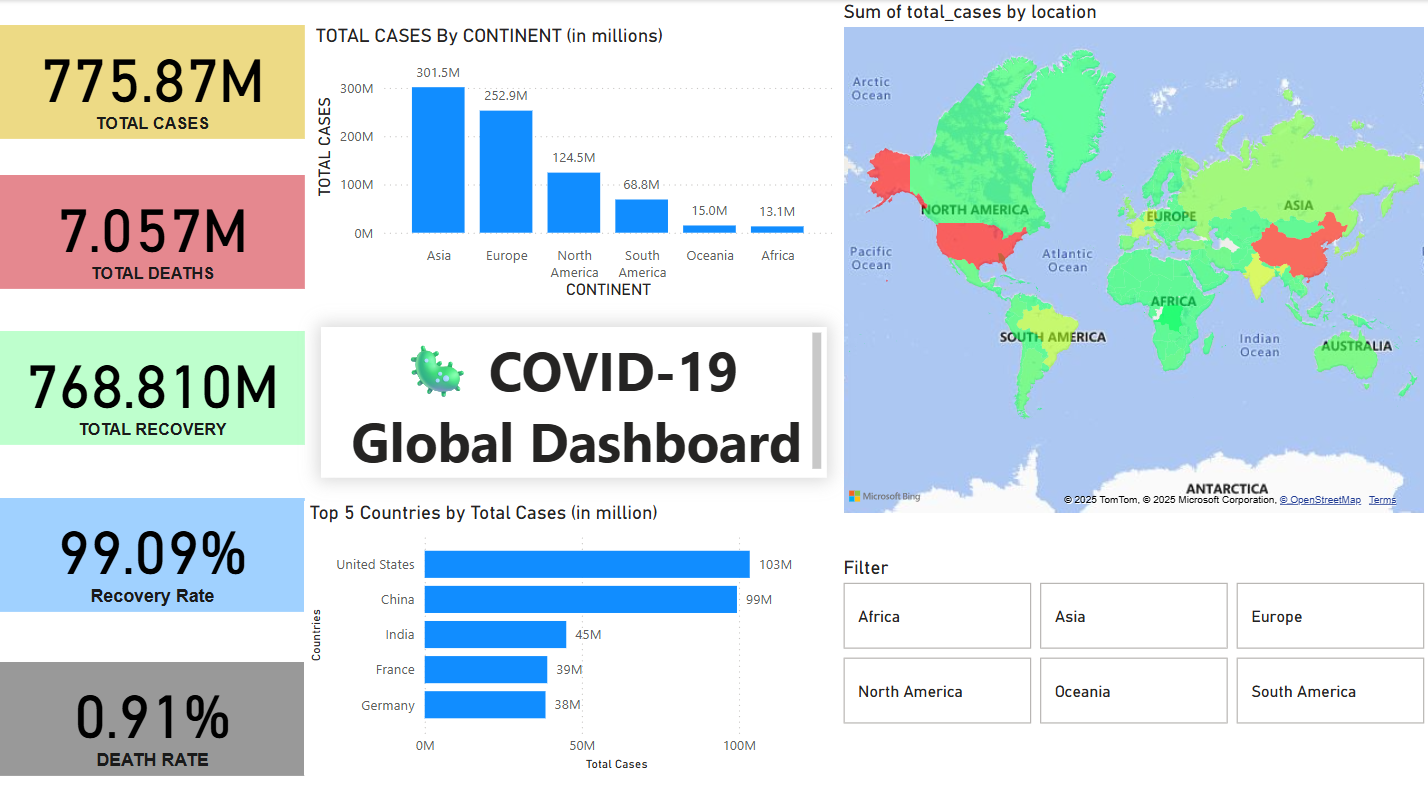

This screenshot's page, from the dashboard's own definition file:
{"tool":"powerbi","page":{"name":"Page 1","canvas":[1280,720],"ordinal":0},"visuals":[{"type":"card","fields":{"Values":["Sum(CovidData.total_cases)"]},"box":[0,22,273,102],"z":0},{"type":"card","fields":{"Values":["Sum(CovidData.total_deaths)"]},"box":[0,157,273,102],"z":1000},{"type":"card","fields":{"Values":["CovidData.Total Recovery"]},"box":[0,296,273,102],"z":2000},{"type":"card","fields":{"Values":["CovidData.Recovery Rate"]},"box":[0,446,273,102],"z":3000},{"type":"card","fields":{"Values":["CovidData.Death Rate (%)"]},"box":[0,593,273,102],"z":4000},{"type":"clusteredColumnChart","title":"TOTAL CASES By CONTINENT (in millions)","fields":{"Category":["CovidData.continent"],"Y":["Sum(CovidData.total_cases)"]},"box":[277.3,21.8,472.7,250.9],"z":5000},{"type":"filledMap","fields":{"Category":["CovidData.location"]},"box":[750,0,530,463.8],"z":6000},{"type":"clusteredBarChart","title":"Top 5 Countries by Total Cases (in million)","fields":{"Y":["Sum(CovidData.total_cases)"],"Category":["CovidData.location"]},"box":[272.5,448.8,472.5,246.2],"z":7000},{"type":"advancedSlicerVisual","fields":{"Values":["CovidData.continent"]},"box":[750,497.5,530,156.2],"z":8000},{"type":"textbox","box":[287.5,292.5,452.5,135],"z":10000}]}

Visuals, with their boxes in screenshot pixels (x1, y1, x2, y2), scaled from the page's 1280x720 canvas onto the 1428x801 screenshot:
card - Sum(CovidData.total_cases): [0,24,305,138]
card - Sum(CovidData.total_deaths): [0,175,305,288]
card - CovidData.Total Recovery: [0,329,305,443]
card - CovidData.Recovery Rate: [0,496,305,610]
card - CovidData.Death Rate (%): [0,660,305,773]
"TOTAL CASES By CONTINENT (in millions)" clusteredColumnChart: [309,24,837,303]
filledMap - CovidData.location: [837,0,1427,516]
"Top 5 Countries by Total Cases (in million)" clusteredBarChart: [304,499,831,773]
advancedSlicerVisual - CovidData.continent: [837,553,1427,727]
textbox: [321,325,826,476]
